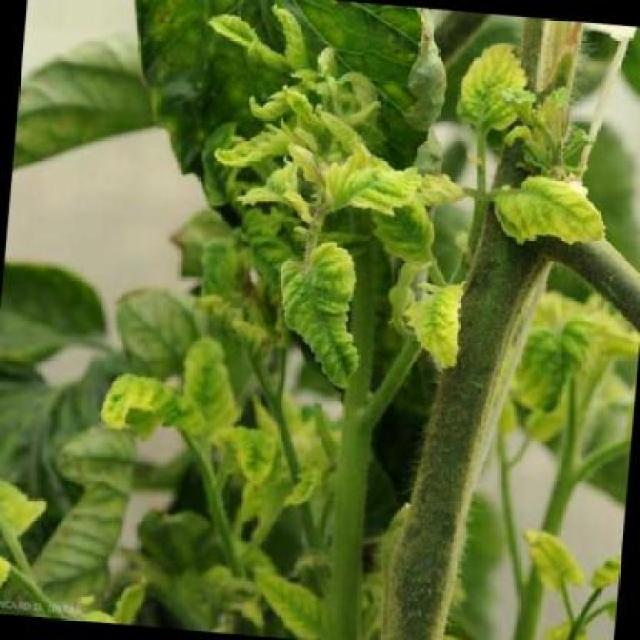Healthy Leaf: (269, 219, 387, 396), (396, 248, 480, 382), (490, 158, 613, 249), (330, 157, 461, 239), (450, 32, 541, 146)
